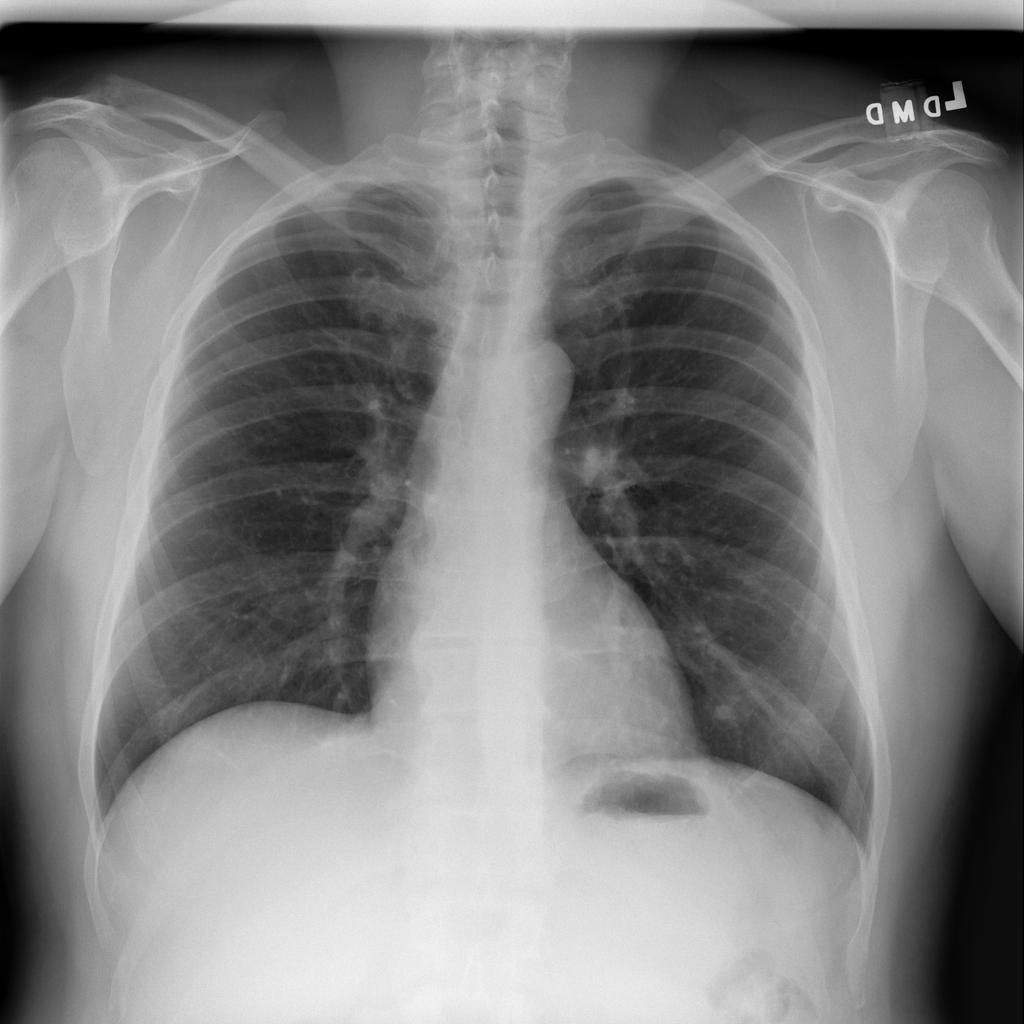nodule: (699, 689, 754, 737)
